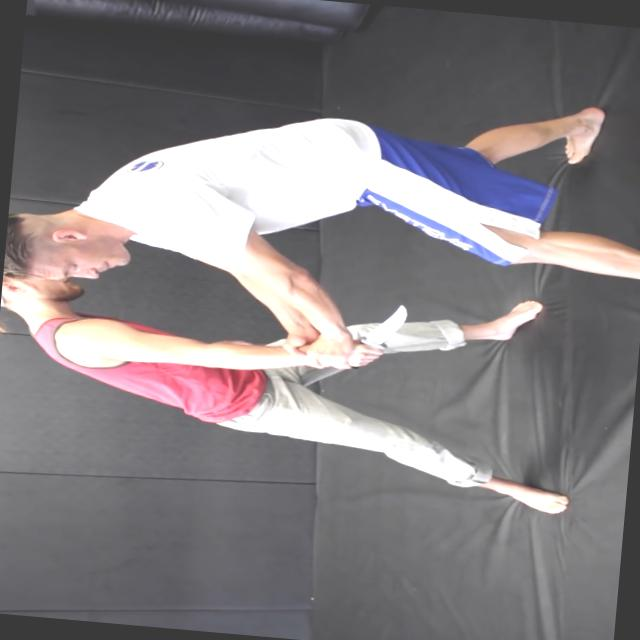knife: (348, 296, 416, 377)
